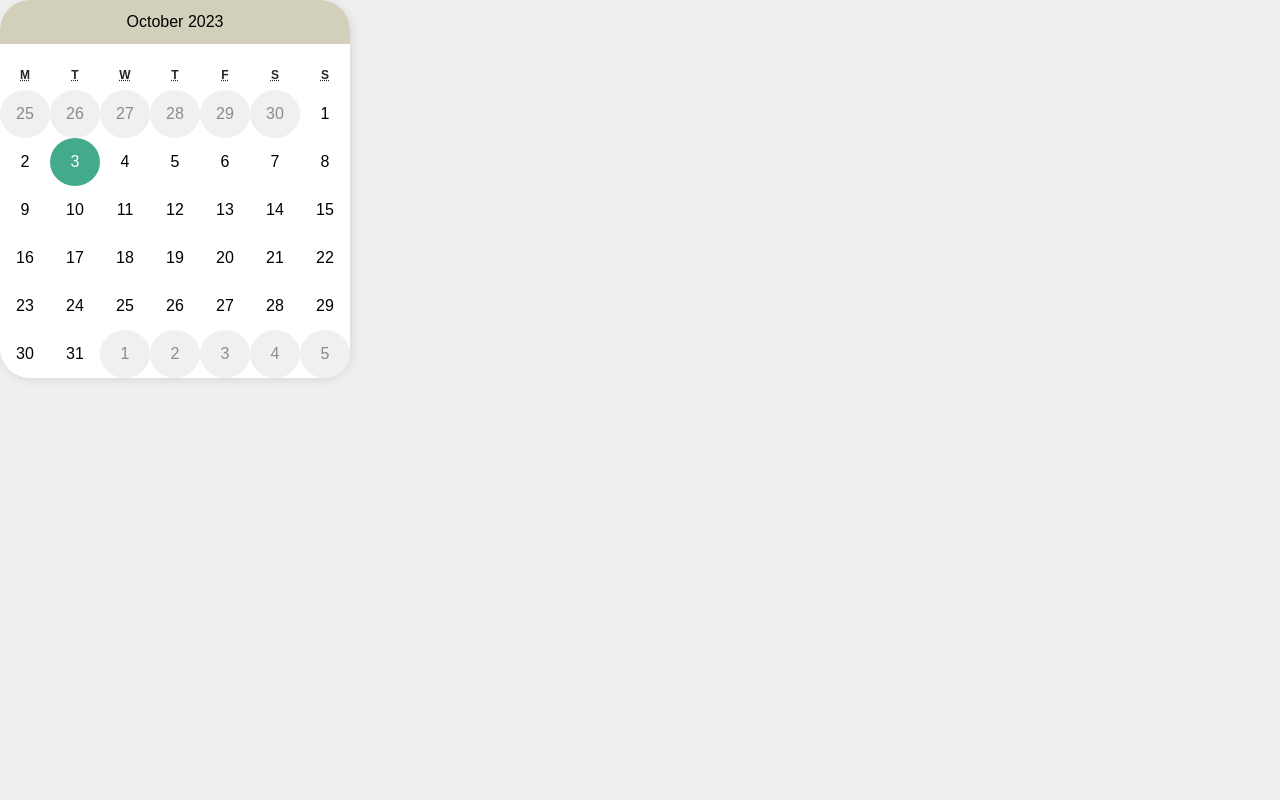
Test: MonthlyCalendar › closes popup when the journal is deleted
The width and height of the screenshot is (1280, 800).
What coordinates should you click on to do the following:
click the 1st button "3"
I would click on:
 (75, 162)
Its box is [50,138,100,186].
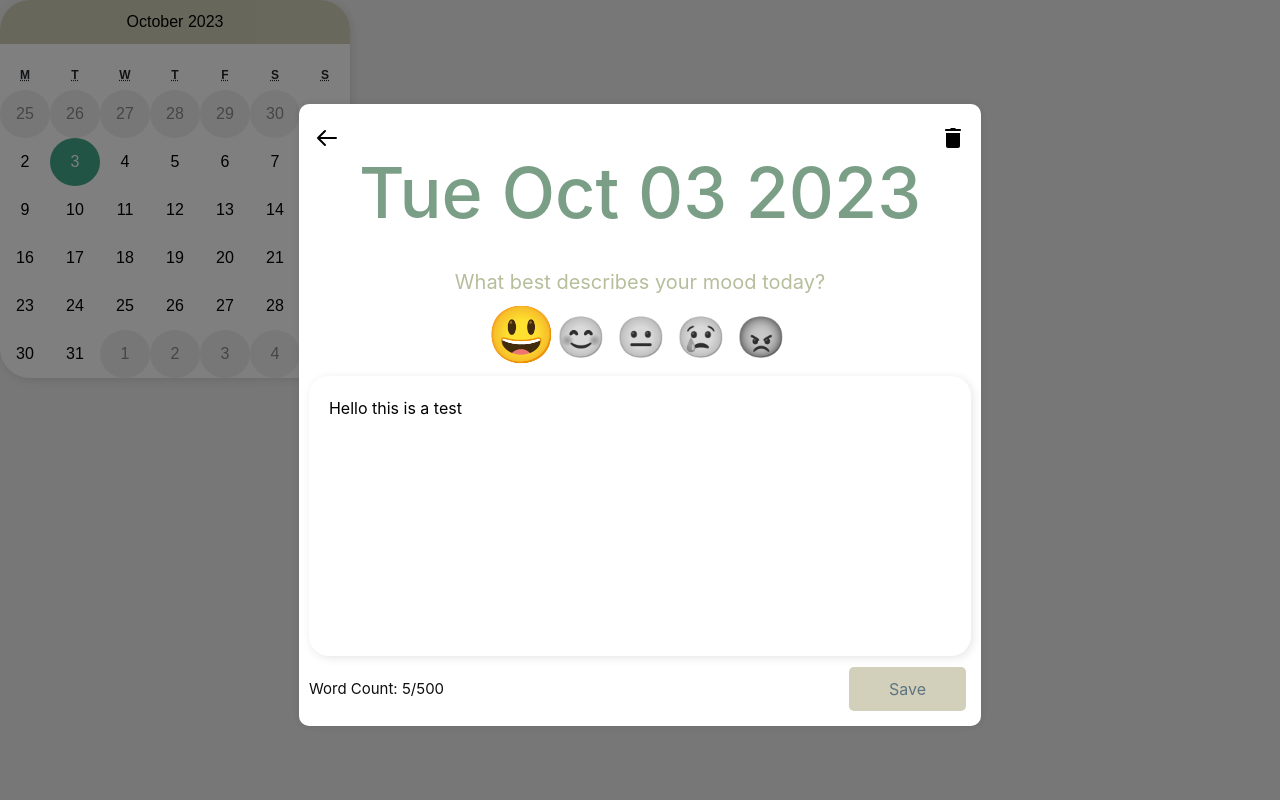
Expected: the heading "Tue Oct 03 2023" is shown, [359,151,921,235]
What coordinates should you click on to do the following:
click the button named "delete journal"
I would click on:
 (953, 138)
Its box is [935,124,971,151].
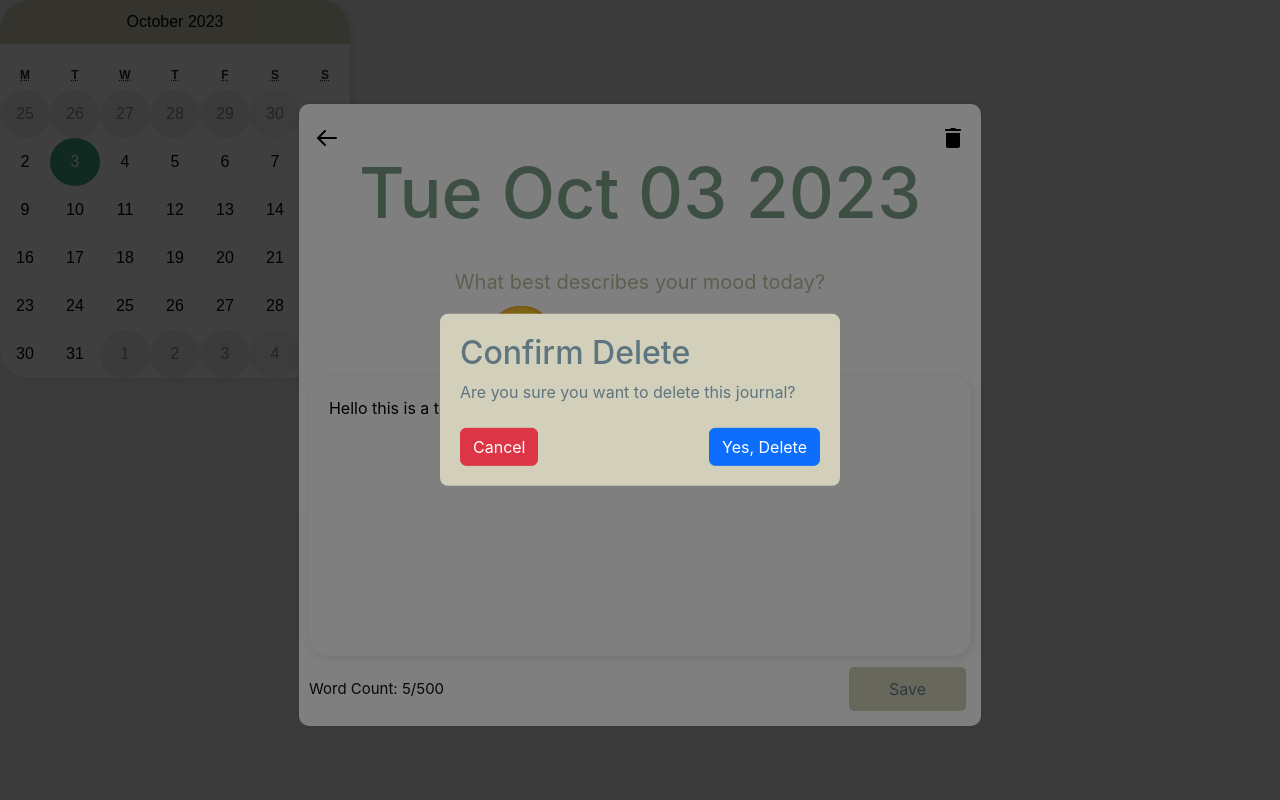
Expected: the heading "Confirm Delete" is shown, [460,333,690,372]
// Wait for the confirmation modal to appear and confirm deletion
What coordinates should you click on to do the following:
click the button "Yes, Delete"
I would click on:
 (764, 447)
Its box is [709,428,820,466].
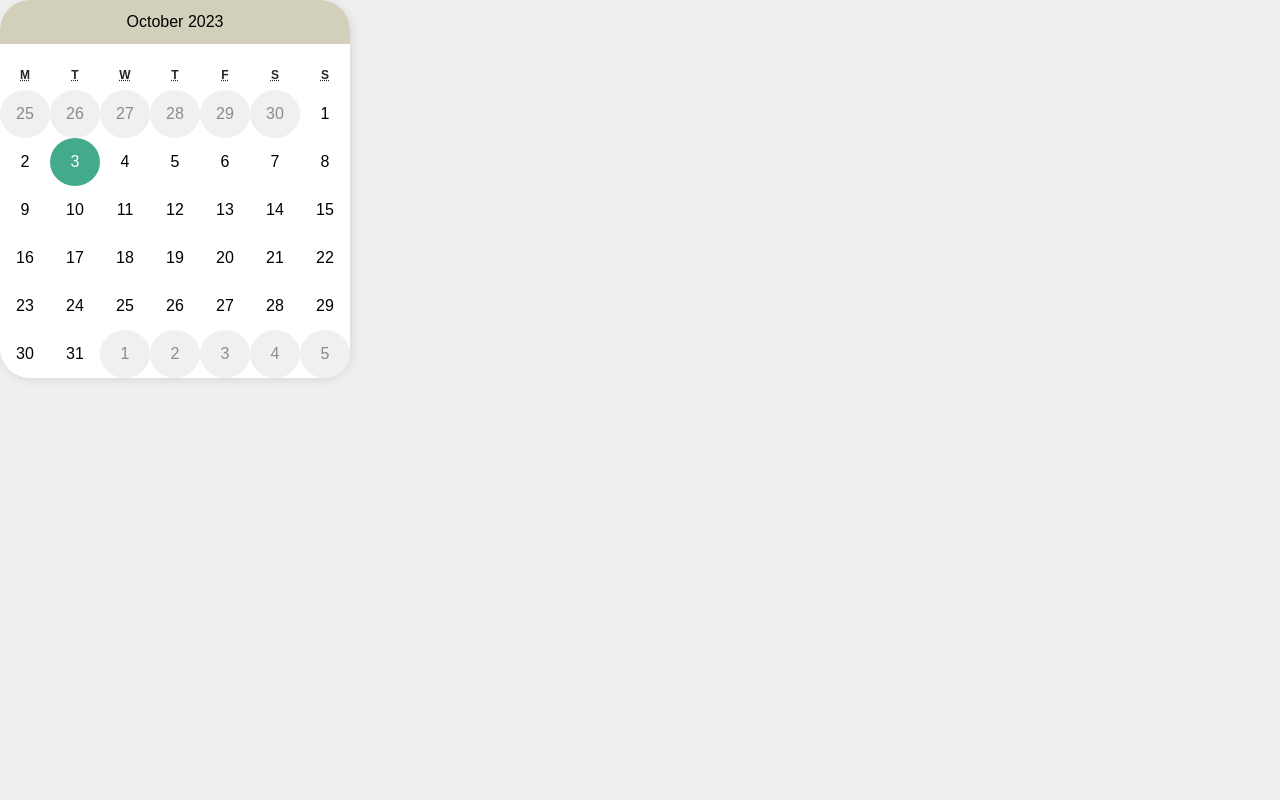
Expected: the heading "Tue Oct 03 2023" is gone
